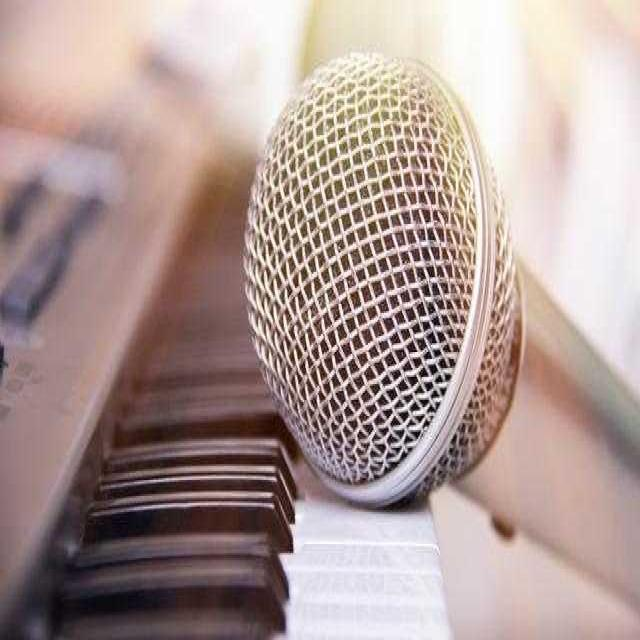microphone: (246, 51, 640, 601)
